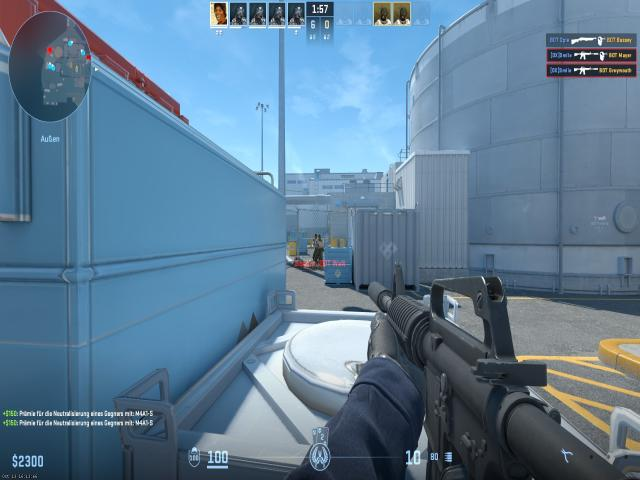Dead: (306, 258, 322, 272), (292, 254, 304, 270)
T: (316, 234, 324, 265), (313, 233, 318, 264)
T-Head: (318, 234, 322, 240), (314, 234, 318, 240)
